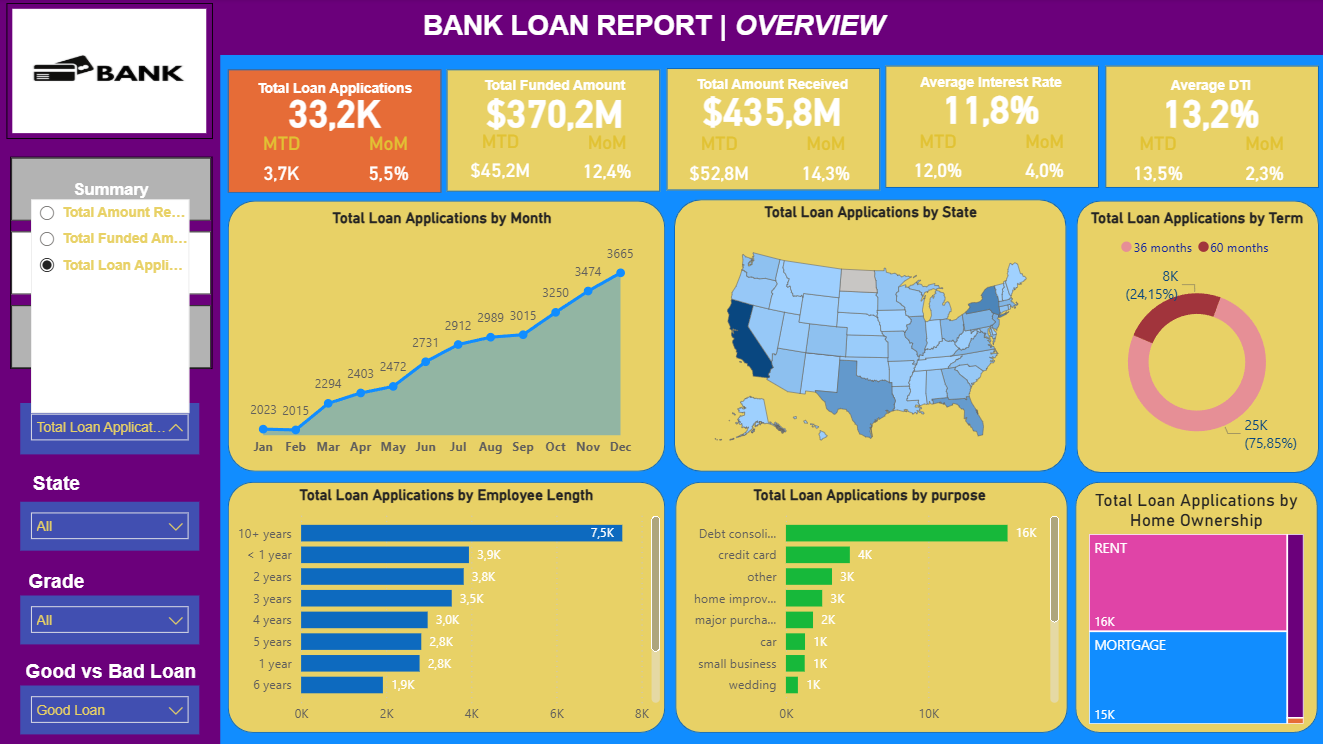

The dashboard page shown, as its layout file describes it:
{"tool":"powerbi","page":{"name":"Overview","canvas":[1280,720],"ordinal":1},"visuals":[{"type":"shape","box":[0,27.7,213.5,692.5],"z":0},{"type":"shape","box":[220.7,68.6,206.3,119.4],"z":0,"group":"g2"},{"type":"group","id":"g1","title":"Group 2","box":[431.7,69.3,206.3,118.3],"z":0,"group":"g6"},{"type":"shape","box":[1040,195.4,234,263],"z":1000},{"type":"shape","box":[220.8,195.4,422.3,261.8],"z":2000},{"type":"shape","box":[0,0,1280,55],"z":3000},{"type":"textbox","box":[404.2,7.2,470.5,48.3],"z":4000},{"type":"card","fields":{"Values":["bank_loan_data.Total Loan Applications"]},"box":[220.7,77.3,206.3,62],"z":4000,"group":"g2"},{"type":"card","title":"MoM","fields":{"Values":["bank_loan_data.MoM Funded"]},"box":[535.6,129.9,102.4,57.7],"z":4000,"group":"g6"},{"type":"shape","box":[1067.2,65.3,206.3,118.2],"z":5000},{"type":"textbox","box":[220.7,72.2,206.3,30.2],"z":5000,"group":"g2"},{"type":"group","id":"g2","title":"Group 1","box":[220.7,68.6,206.3,119.4],"z":6000},{"type":"card","title":"MTD","fields":{"Values":["bank_loan_data.MTD Loan Applications"]},"box":[220.7,130.1,103.8,57.9],"z":6000,"group":"g2"},{"type":"group","id":"g3","title":"Group 3","box":[642.7,67.2,207.2,120],"z":7000},{"type":"card","title":"MoM","fields":{"Values":["bank_loan_data.MoM"]},"box":[324.5,130.1,102.5,57.9],"z":7000,"group":"g2"},{"type":"group","id":"g4","title":"Group 4","box":[854.5,65.7,207.2,120],"z":8000},{"type":"shape","box":[431.7,69.3,206.3,118.2],"z":8000,"group":"g1"},{"type":"group","id":"g5","title":"Group 5","box":[1066.3,69.5,206.3,118.3],"z":9000},{"type":"card","fields":{"Values":["bank_loan_data.Total Funded AMount"]},"box":[432.3,78,206.3,62],"z":9000,"group":"g1"},{"type":"group","id":"g6","title":"Group 6","box":[431.7,69.3,206.3,118.3],"z":10000},{"type":"textbox","box":[432.3,70.8,206.3,30.3],"z":10000,"group":"g1"},{"type":"card","title":"MTD","fields":{"Values":["bank_loan_data.MTD Funded Amount"]},"box":[431.7,128.4,103.8,57.9],"z":11000,"group":"g1"},{"type":"slicer","fields":{"Values":["bank_loan_data.address_state"]},"box":[21,485.7,172.5,47.1],"z":11000},{"type":"textbox","box":[21,453.1,70,32.6],"z":12000},{"type":"shape","box":[643.6,67.2,206.3,118.2],"z":13000,"group":"g3"},{"type":"slicer","fields":{"Values":["bank_loan_data.grade"]},"box":[21,576.2,172.5,47.1],"z":13000},{"type":"card","fields":{"Values":["bank_loan_data.Total Amount Received"]},"box":[642.7,76.1,206.3,62],"z":14000,"group":"g3"},{"type":"textbox","box":[21,547.2,70,32.6],"z":14000},{"type":"textbox","box":[642.7,68.9,206.3,30.3],"z":15000,"group":"g3"},{"type":"slicer","fields":{"Values":["bank_loan_data.Good vs Bad Loans"]},"box":[21,663.1,172.5,47.1],"z":15000},{"type":"card","title":"MTD","fields":{"Values":["bank_loan_data.MTD Received"]},"box":[642.7,129.5,103.9,57.7],"z":16000,"group":"g3"},{"type":"textbox","box":[21,634.1,182.2,32.6],"z":16000},{"type":"card","title":"MoM","fields":{"Values":["bank_loan_data.MoM Received"]},"box":[746.6,129.5,102.4,57.7],"z":17000,"group":"g3"},{"type":"areaChart","fields":{"Y":["bank_loan_data.Total Loan Applications"],"Category":["Date Table.Month"]},"box":[237.7,203.9,380,247.3],"z":17000},{"type":"shape","box":[855.4,65.7,206.3,118.2],"z":18000,"group":"g4"},{"type":"slicer","fields":{"Values":["Select Measure.Select Measure"]},"box":[21,390.4,172.5,49.5],"z":18000},{"type":"card","fields":{"Values":["bank_loan_data.AVG IntRate"]},"box":[854.5,74.6,206.3,62],"z":19000,"group":"g4"},{"type":"textbox","box":[21,357.8,159.3,32.6],"z":19000},{"type":"textbox","box":[854.5,67.4,206.3,30.3],"z":20000,"group":"g4"},{"type":"shape","box":[651.5,194.2,378.8,263],"z":20000},{"type":"card","title":"MTD","fields":{"Values":["bank_loan_data.MTD AVG"]},"box":[854.5,128,103.9,57.7],"z":21000,"group":"g4"},{"type":"shapeMap","fields":{"Value":["bank_loan_data.Total Loan Applications"],"Category":["bank_loan_data.address_state"]},"box":[669.6,197.9,343.8,260.6],"z":21000},{"type":"card","title":"MoM","fields":{"Values":["bank_loan_data.MoM AVG"]},"box":[958.4,128,102.4,57.7],"z":22000,"group":"g4"},{"type":"donutChart","fields":{"Y":["bank_loan_data.Total Loan Applications"],"Category":["bank_loan_data.term"]},"box":[1040,203.9,232.8,250.9],"z":22000},{"type":"shape","box":[220.8,466.9,422.3,242.5],"z":23000},{"type":"card","fields":{"Values":["bank_loan_data.AVG DTI"]},"box":[1066.3,76.7,206.3,62],"z":24000,"group":"g5"},{"type":"barChart","fields":{"Y":["bank_loan_data.Total Loan Applications"],"Category":["bank_loan_data.emp_length"]},"box":[220.8,470.5,422.3,238.9],"z":24000},{"type":"textbox","box":[1066.3,69.5,206.3,30.3],"z":25000,"group":"g5"},{"type":"shape","box":[652.7,466.9,378.8,242.5],"z":25000},{"type":"card","title":"MTD","fields":{"Values":["bank_loan_data.MTD ADTI"]},"box":[1066.3,130.1,103.9,57.7],"z":26000,"group":"g5"},{"type":"barChart","fields":{"Y":["bank_loan_data.Total Loan Applications"],"Category":["bank_loan_data.purpose"]},"box":[652.7,470.5,375.2,238.9],"z":26000},{"type":"card","title":"MoM","fields":{"Values":["bank_loan_data.MoM ADTI"]},"box":[1170.2,130.1,102.4,57.7],"z":27000,"group":"g5"},{"type":"shape","box":[1038.7,466.9,234,242.5],"z":27000},{"type":"treemap","fields":{"Values":["bank_loan_data.Total Loan Applications"],"Group":["bank_loan_data.home_ownership"]},"box":[1047.2,474.1,217.2,231.6],"z":28000},{"type":"pageNavigator","box":[10.9,153.2,195.4,205.1],"z":29000},{"type":"image","box":[7.2,4.8,199.1,131.5],"z":30000}]}

Visuals, with their boxes in screenshot pixels (x1, y1, x2, y2), scaled from the page's 1280x720 canvas onto the 1323x744 screenshot:
shape: 0, 29, 221, 743
shape: 228, 71, 441, 194
"Group 2" group: 446, 72, 659, 194
shape: 1075, 202, 1317, 474
shape: 228, 202, 665, 472
shape: 0, 0, 1322, 57
textbox: 418, 7, 904, 57
card - bank_loan_data.Total Loan Applications: 228, 80, 441, 144
"MoM" card: 554, 134, 659, 194
shape: 1103, 67, 1316, 190
textbox: 228, 75, 441, 106
"Group 1" group: 228, 71, 441, 194
"MTD" card: 228, 134, 335, 194
"Group 3" group: 664, 69, 878, 193
"MoM" card: 335, 134, 441, 194
"Group 4" group: 883, 68, 1097, 192
shape: 446, 72, 659, 194
"Group 5" group: 1102, 72, 1315, 194
card - bank_loan_data.Total Funded AMount: 447, 81, 660, 145
"Group 6" group: 446, 72, 659, 194
textbox: 447, 73, 660, 104
"MTD" card: 446, 133, 553, 193
slicer - bank_loan_data.address_state: 22, 502, 200, 551
textbox: 22, 468, 94, 502
shape: 665, 69, 878, 192
slicer - bank_loan_data.grade: 22, 595, 200, 644
card - bank_loan_data.Total Amount Received: 664, 79, 878, 143
textbox: 22, 565, 94, 599
textbox: 664, 71, 878, 103
slicer - bank_loan_data.Good vs Bad Loans: 22, 685, 200, 734
"MTD" card: 664, 134, 772, 193
textbox: 22, 655, 210, 689
"MoM" card: 772, 134, 878, 193
areaChart - bank_loan_data.Total Loan Applications x Date Table.Month: 246, 211, 638, 466
shape: 884, 68, 1097, 190
slicer - Select Measure.Select Measure: 22, 403, 200, 455
card - bank_loan_data.AVG IntRate: 883, 77, 1096, 141
textbox: 22, 370, 186, 403
textbox: 883, 70, 1096, 101
shape: 673, 201, 1065, 472
"MTD" card: 883, 132, 991, 192
shapeMap - bank_loan_data.Total Loan Applications x bank_loan_data.address_state: 692, 204, 1047, 474
"MoM" card: 991, 132, 1096, 192
donutChart - bank_loan_data.Total Loan Applications x bank_loan_data.term: 1075, 211, 1316, 470
shape: 228, 482, 665, 733
card - bank_loan_data.AVG DTI: 1102, 79, 1315, 143
barChart - bank_loan_data.Total Loan Applications x bank_loan_data.emp_length: 228, 486, 665, 733
textbox: 1102, 72, 1315, 103
shape: 675, 482, 1066, 733
"MTD" card: 1102, 134, 1210, 194
barChart - bank_loan_data.Total Loan Applications x bank_loan_data.purpose: 675, 486, 1062, 733
"MoM" card: 1210, 134, 1315, 194
shape: 1074, 482, 1315, 733
treemap - bank_loan_data.Total Loan Applications x bank_loan_data.home_ownership: 1082, 490, 1307, 729
pageNavigator: 11, 158, 213, 370
image: 7, 5, 213, 141
